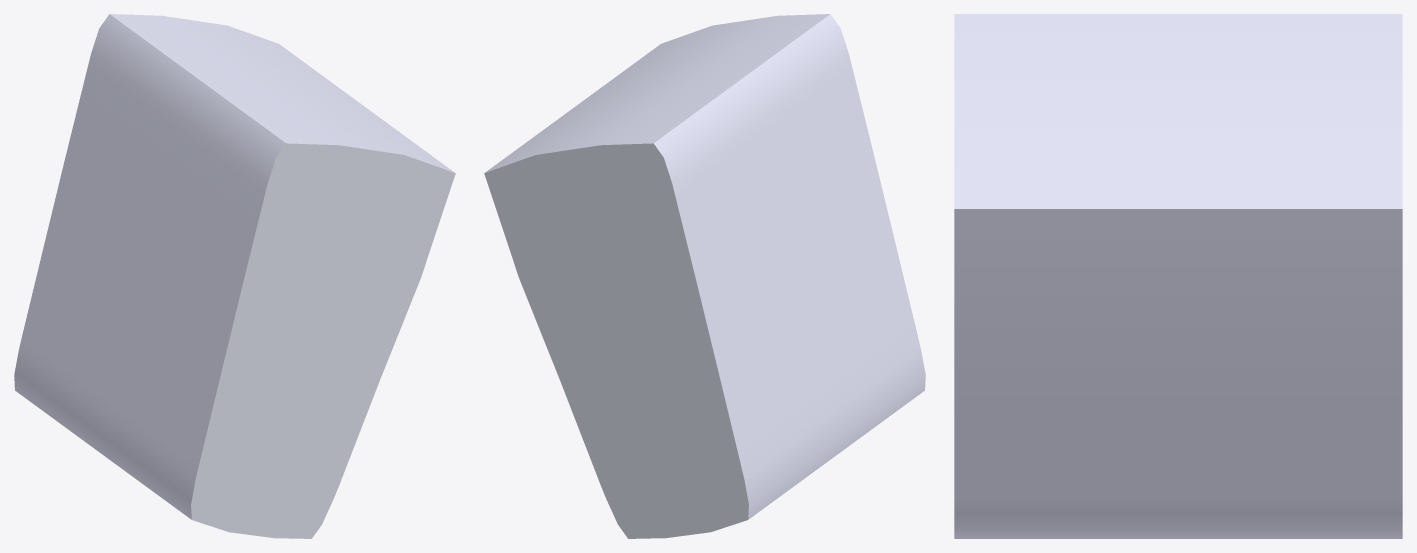
The model's file is symbol,_Zyzol_Grey.glb.
The picture shows the model from 3 angles, left to right: view 1: azimuth 30°, elevation 25°; view 2: azimuth 150°, elevation 25°; view 3: azimuth 270°, elevation 25°; orthographic projection. The views are drawn at different scales.
Parts seen in each view (by area): view 1: symbol,_Zyzol_Grey; view 2: symbol,_Zyzol_Grey; view 3: symbol,_Zyzol_Grey.
Part boxes in pixels (x1,y1,x2,y2): symbol,_Zyzol_Grey: (14,14,455,538); symbol,_Zyzol_Grey: (484,14,925,538); symbol,_Zyzol_Grey: (954,14,1402,538).
Size of what is drawn, in the model's own units: 0.0389 by 0.0564 by 0.045.
2 materials, 2 textured.
